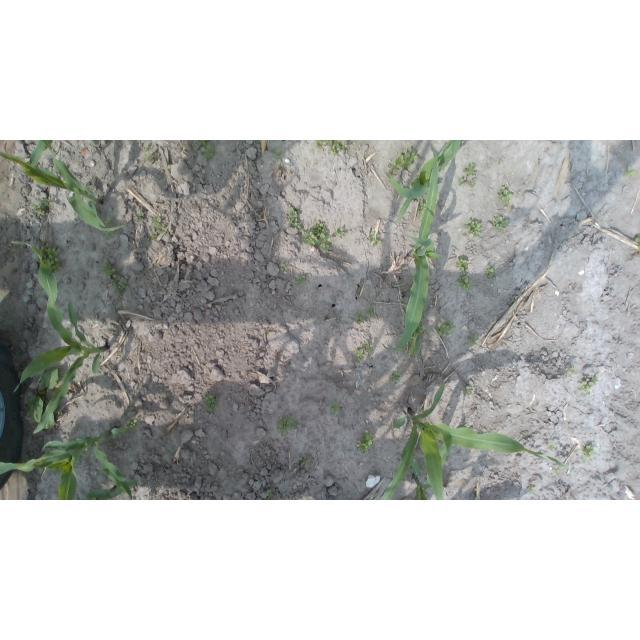Maize: (380, 381, 569, 500), (11, 241, 109, 436), (383, 145, 442, 353), (0, 140, 124, 232), (0, 427, 134, 500), (384, 140, 463, 221), (25, 140, 101, 168), (85, 477, 136, 500), (412, 474, 432, 500)
Weeds: (27, 368, 60, 429), (300, 219, 333, 250), (387, 148, 418, 181), (37, 243, 64, 273), (313, 140, 348, 154), (276, 416, 298, 437), (32, 196, 53, 217), (357, 431, 376, 453), (353, 305, 375, 324), (109, 274, 128, 296), (579, 376, 598, 395), (436, 319, 456, 336), (464, 220, 483, 237), (287, 207, 301, 230), (496, 188, 512, 205), (456, 276, 472, 292), (492, 216, 509, 231), (151, 217, 165, 234), (204, 393, 217, 411), (368, 232, 382, 248), (583, 444, 596, 461), (456, 257, 468, 275), (624, 165, 639, 179), (328, 403, 342, 417), (124, 420, 138, 433), (103, 264, 119, 275), (464, 162, 477, 175), (204, 144, 215, 159), (299, 456, 311, 468), (364, 344, 375, 357), (143, 151, 157, 161), (356, 348, 365, 362), (565, 367, 576, 378), (469, 334, 479, 346), (334, 227, 346, 237), (485, 264, 495, 276), (101, 220, 114, 228), (273, 147, 283, 157), (296, 276, 307, 285), (392, 371, 401, 381), (87, 199, 97, 208), (635, 234, 640, 251), (463, 386, 472, 395), (548, 440, 556, 450), (266, 489, 273, 500), (280, 263, 288, 272), (136, 212, 144, 220), (151, 232, 158, 241), (470, 178, 476, 188), (418, 324, 425, 332), (104, 232, 114, 237), (497, 157, 504, 164), (527, 485, 533, 493), (198, 140, 206, 146), (553, 468, 560, 474), (458, 177, 464, 184), (216, 148, 221, 153), (146, 144, 151, 148), (168, 165, 171, 170)
